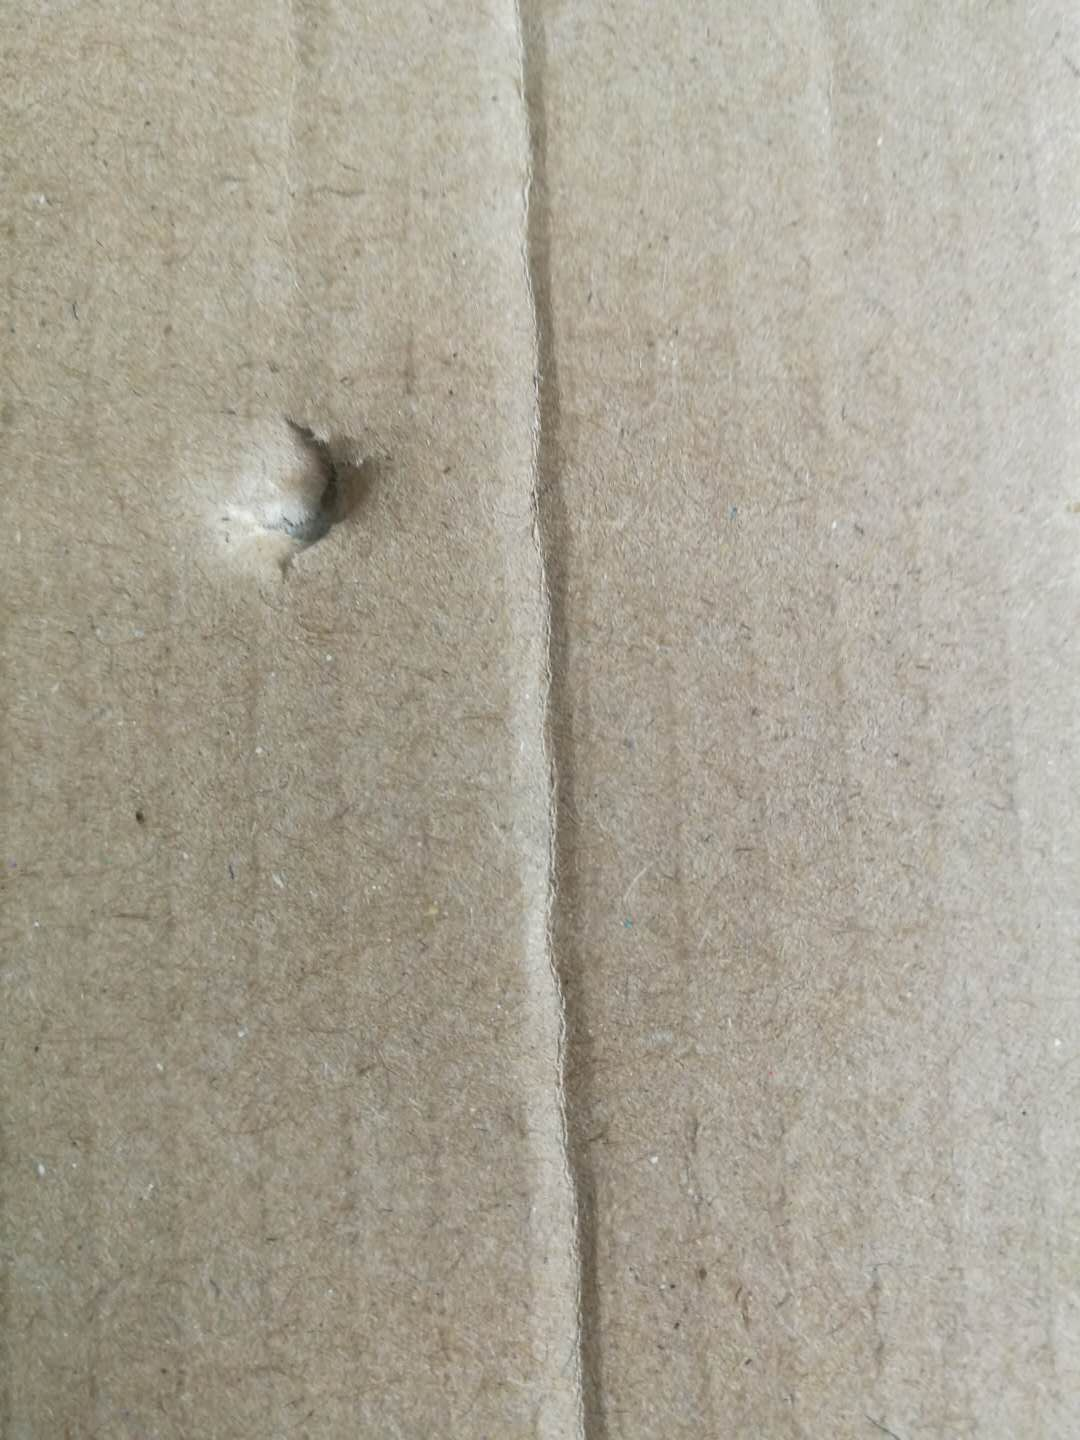defect: (476, 2, 666, 1438), (171, 355, 442, 604)
